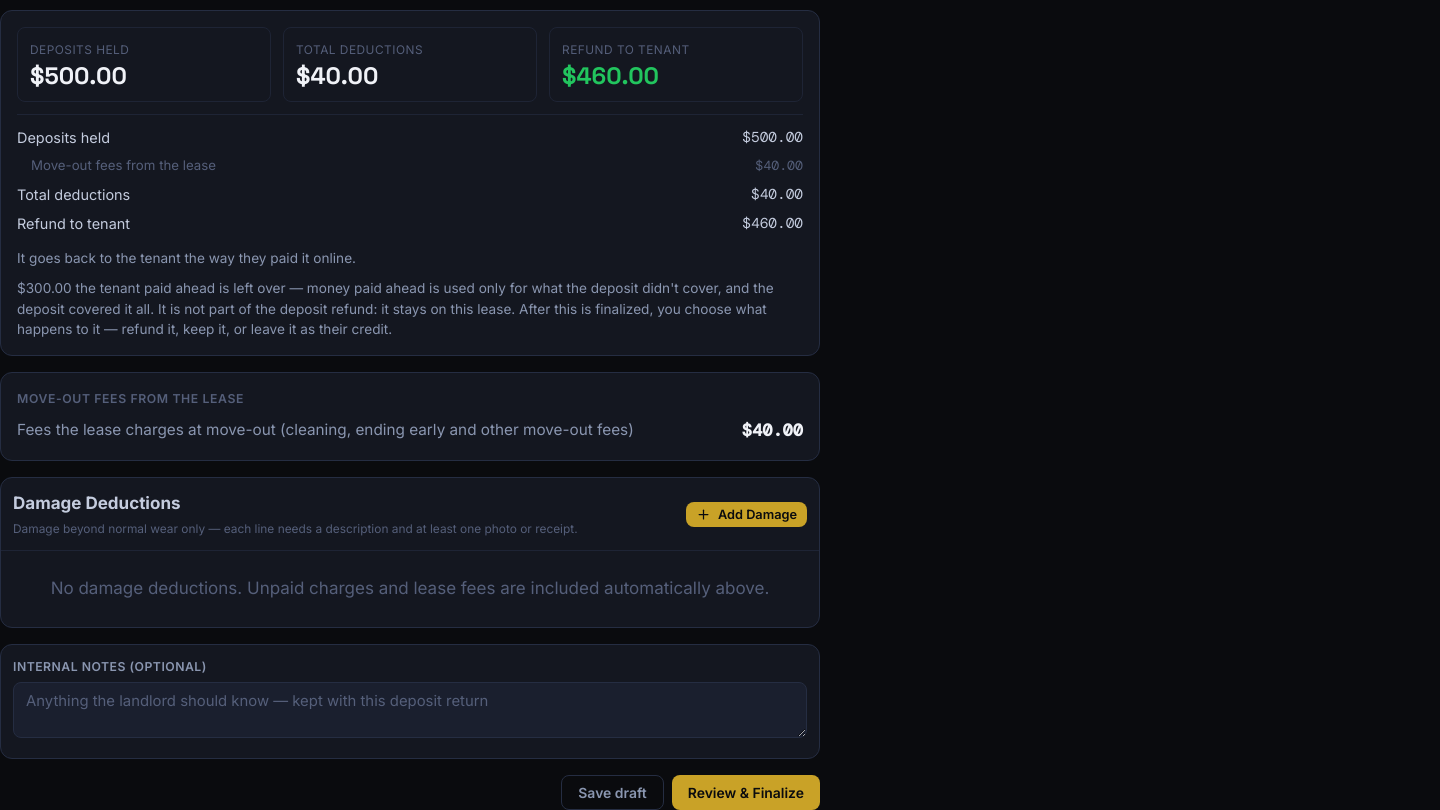
Test: Deposit return: the server's figures, never the page's own sum › a 409 at finalize is said once and the page reads the return again in place
(page scrolled)
Click the button "Review & Finalize" at (746, 793), box [672,775,820,809]
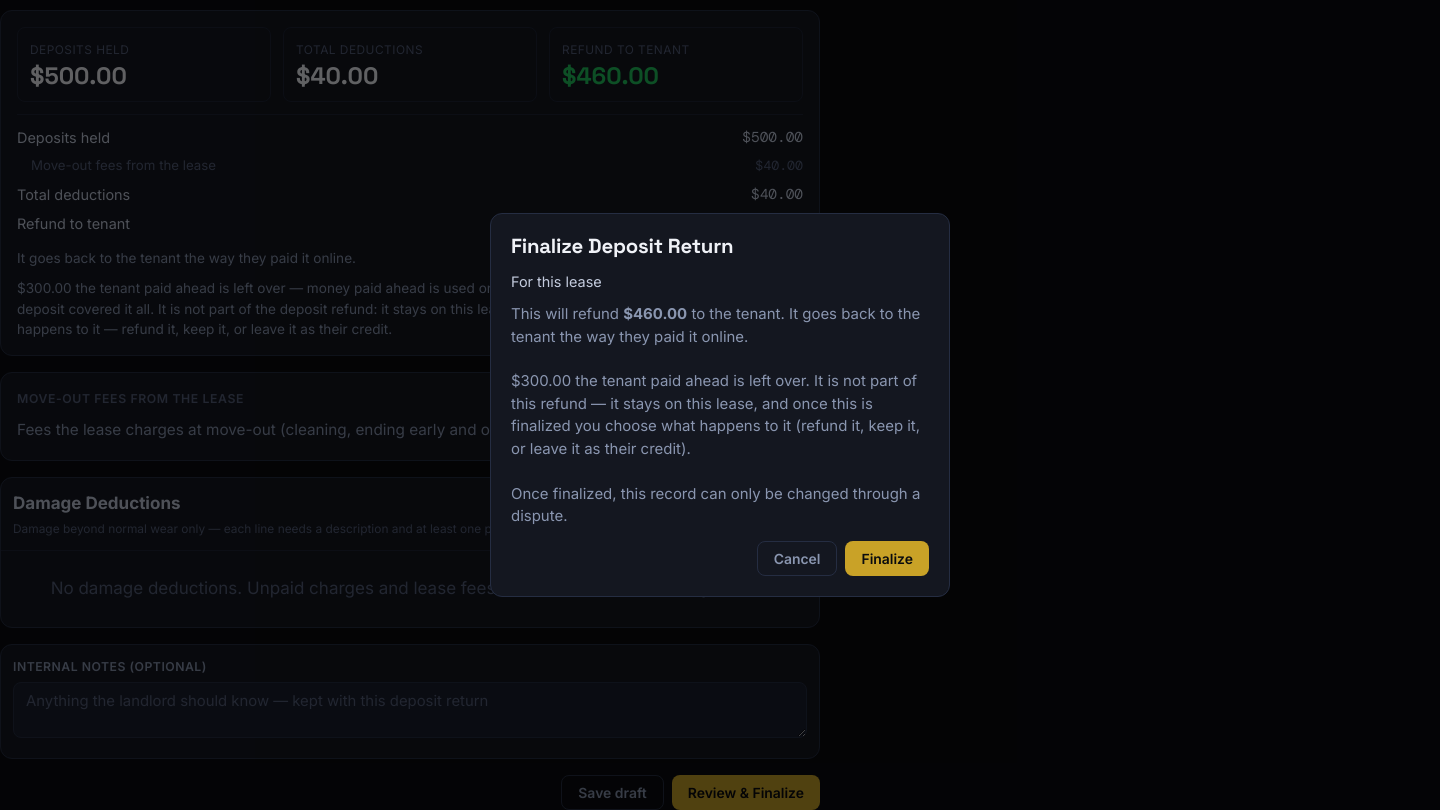
Click the button "Finalize" at (887, 559), box [846,541,929,576]
(page scrolled)
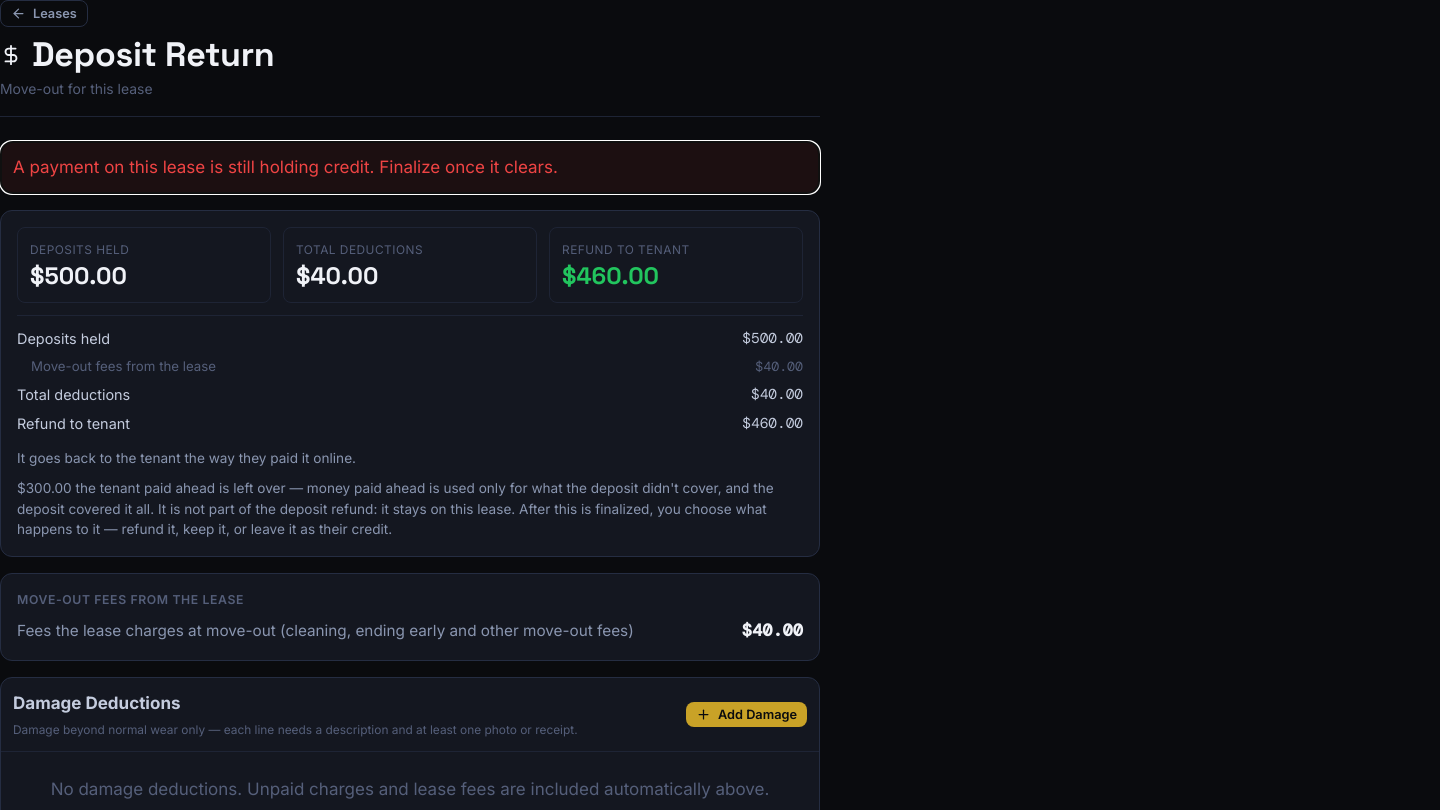
Expected: the dialog is gone
